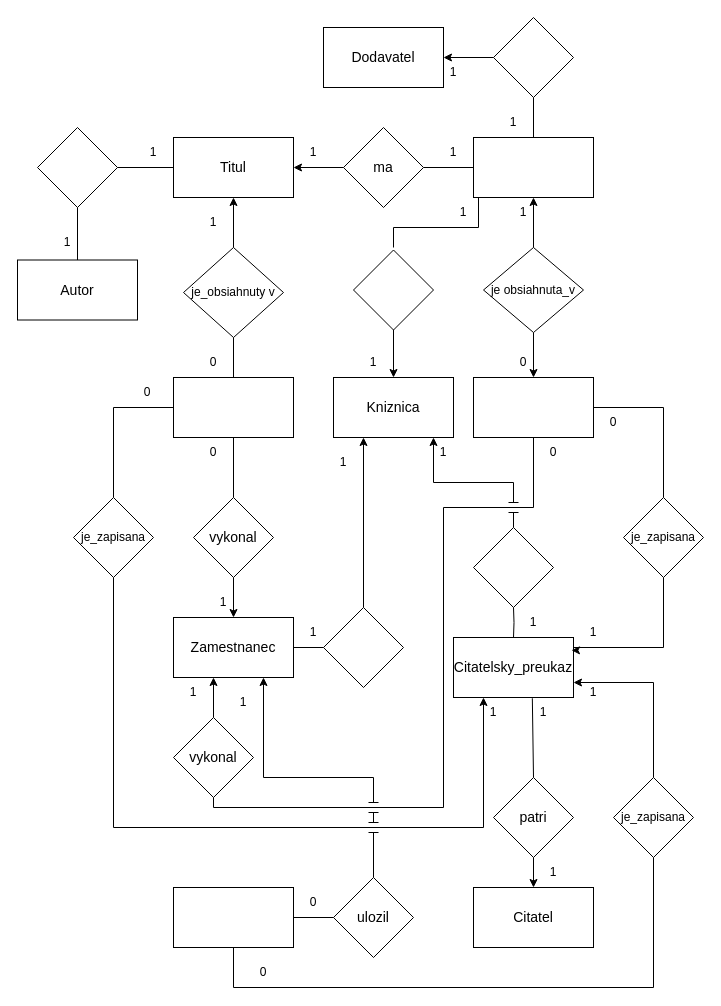
Some shapes in this 721 by 1006 pixel diagram are drawn without their labels. Here are the shapes that lost their labels. From the top down, the box of each, then its label:
(492, 16, 574, 98): dodal
(36, 126, 118, 208): napisal
(472, 136, 594, 198): Kopia
(352, 249, 434, 330): vlastni
(172, 376, 294, 438): Rezervacia
(472, 376, 594, 438): Vypozicka
(472, 526, 554, 608): eviduje
(322, 606, 404, 688): pracuje
(172, 886, 294, 948): Pokuta
